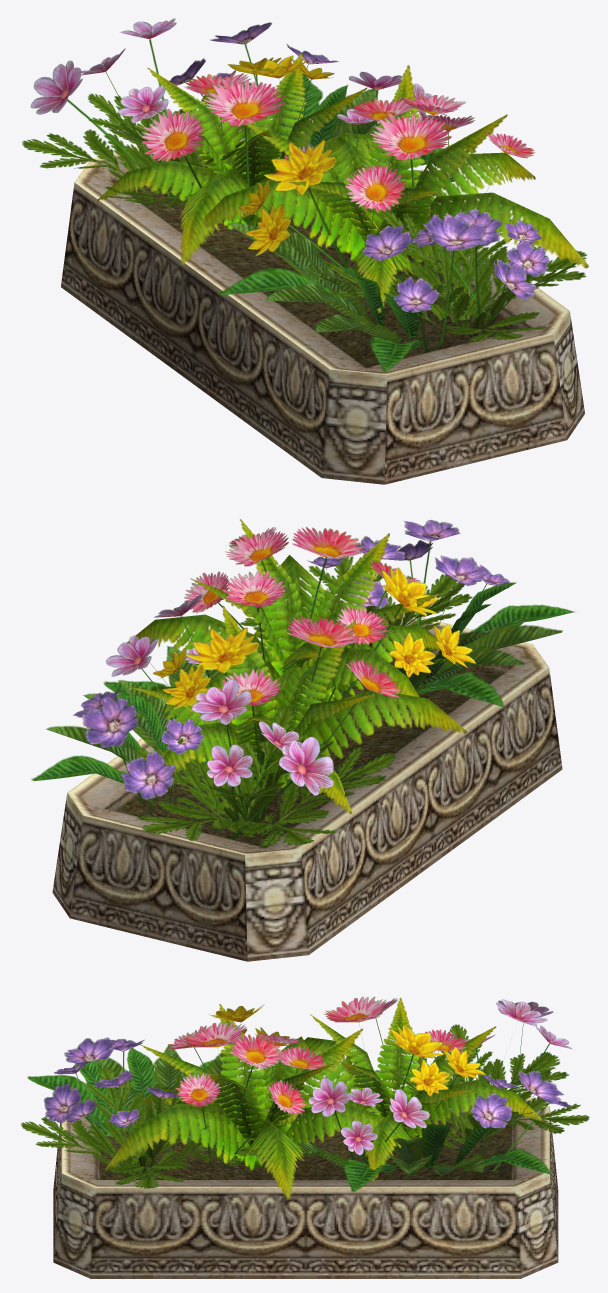
The model's file is rd_flo2.glb.
3 renders of one model, top to bottom at view 1: azimuth 30°, elevation 25°; view 2: azimuth 150°, elevation 25°; view 3: azimuth 270°, elevation 25°, orthographic. The views are drawn at different scales.
Visible parts, largest first — view 1: rd_flo2; view 2: rd_flo2; view 3: rd_flo2.
Boxes of the visible parts, x1=… form: rd_flo2: x1=22, y1=18, x2=588, y2=484; rd_flo2: x1=31, y1=519, x2=575, y2=961; rd_flo2: x1=21, y1=996, x2=589, y2=1278.
Size of the model in its own units: 3.7 by 2.47 by 5.99.
3 materials, 3 textured.
